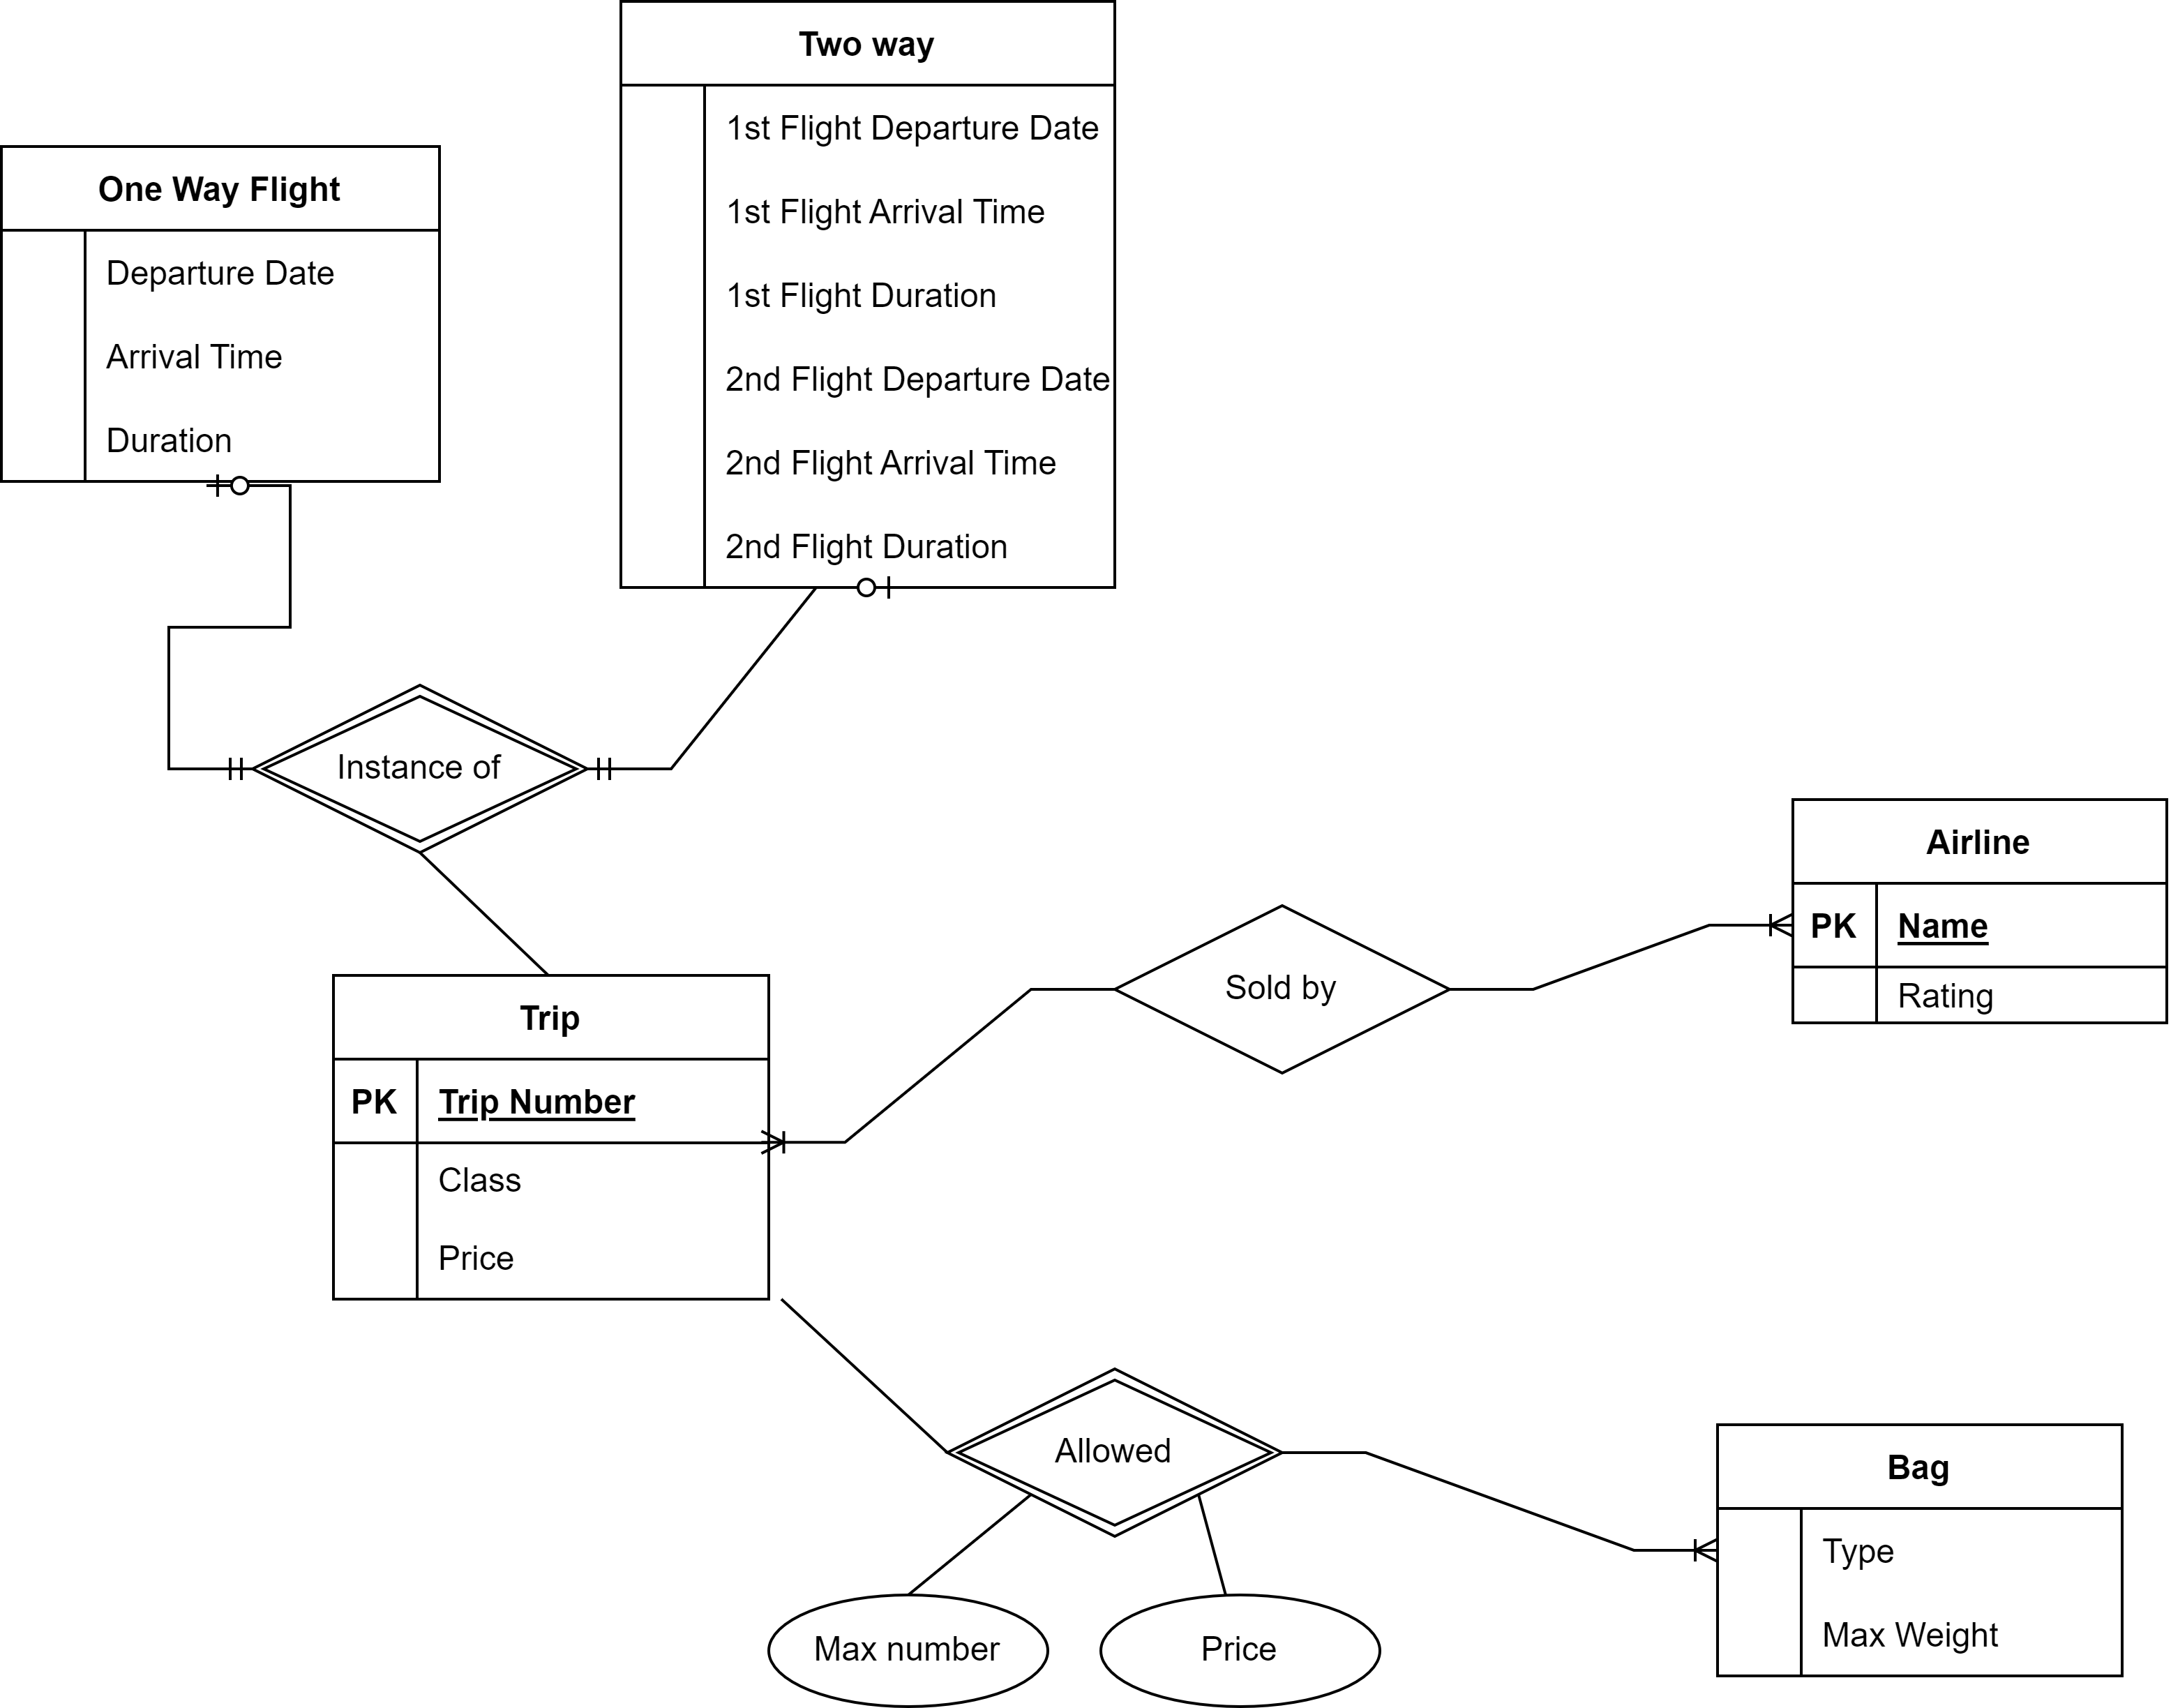entity: (620, 5, 1114, 589), (4, 146, 435, 478), (335, 977, 774, 1301), (1715, 1428, 2125, 1682), (1799, 804, 2171, 1024)
ident_rel: (945, 1371, 1279, 1537), (257, 682, 589, 850)
many: (1634, 1533, 1722, 1571), (1706, 911, 1799, 941), (767, 1125, 841, 1155)
one: (835, 566, 909, 610), (204, 472, 296, 497), (585, 756, 675, 781), (166, 758, 250, 783)
rel: (1119, 908, 1450, 1072)
rel_attr: (768, 1597, 1052, 1708), (1101, 1593, 1380, 1704)
